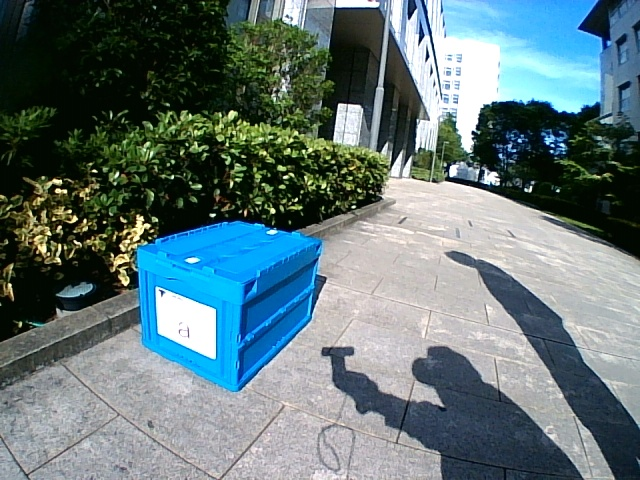green_box: (137, 220, 322, 393)
tag_b: (168, 310, 214, 343)
